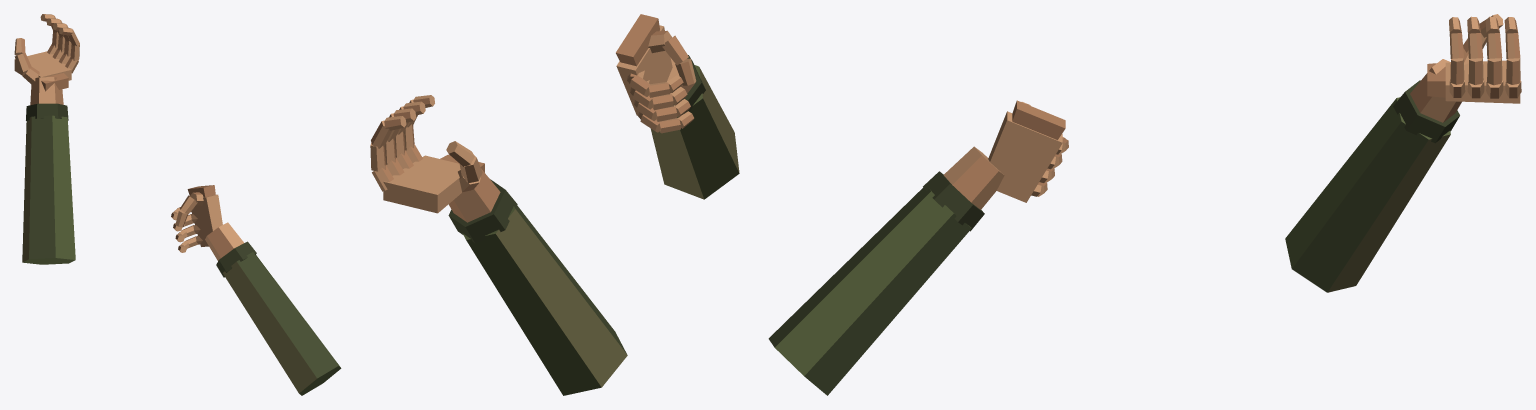
The model's file is maos_wf_m107.glb.
The picture shows the model from 3 angles, left to right: view 1: azimuth 30°, elevation 25°; view 2: azimuth 150°, elevation 25°; view 3: azimuth 270°, elevation 25°; orthographic projection. The views are drawn at different scales.
Visible parts, largest first — view 1: MaoE, MaoD; view 2: MaoE, MaoD; view 3: MaoD, MaoE.
Boxes of the visible parts, bbox=[...] form: MaoE: bbox=[14, 14, 79, 264]; MaoD: bbox=[171, 185, 341, 395]; MaoE: bbox=[370, 95, 627, 395]; MaoD: bbox=[616, 14, 739, 199]; MaoD: bbox=[768, 100, 1068, 395]; MaoE: bbox=[1285, 14, 1521, 292].
Bounding box in the file's own units: 0.3394 × 0.5001 × 0.9877.
